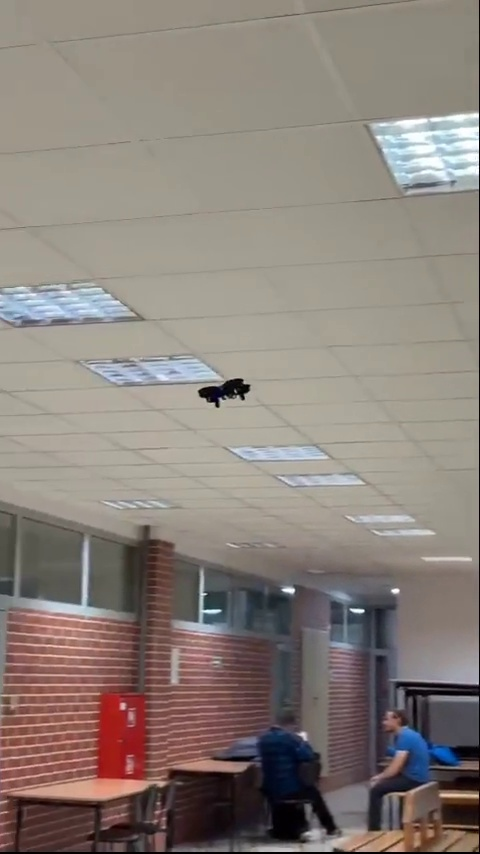drone: (193, 372, 254, 412)
no vest: (251, 703, 325, 801), (368, 708, 430, 808)
